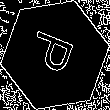P_E: (27, 29, 83, 81)
